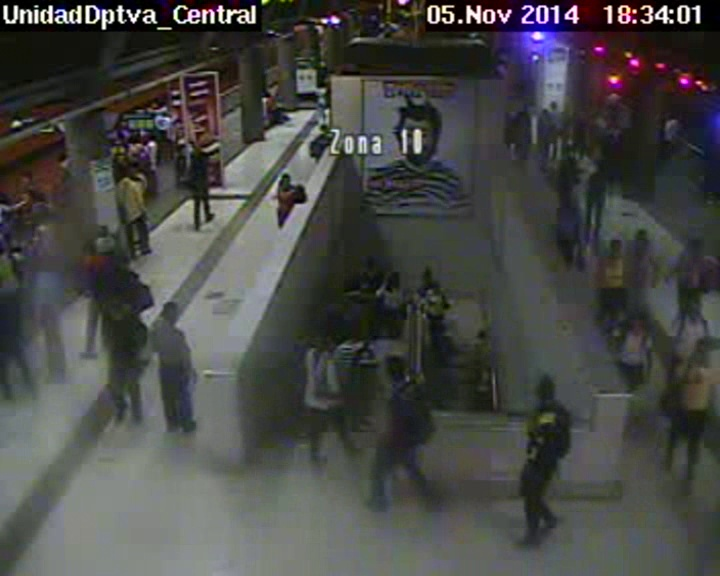person: (532, 375, 557, 403), (383, 354, 409, 380), (689, 337, 713, 360), (627, 308, 647, 330), (161, 302, 180, 324), (684, 294, 703, 315), (607, 237, 626, 257), (631, 229, 650, 249), (687, 233, 705, 253), (37, 228, 56, 245), (313, 334, 329, 352), (110, 295, 126, 312), (385, 272, 401, 289), (420, 265, 435, 281), (343, 327, 358, 343), (74, 247, 89, 263), (17, 170, 31, 186), (96, 225, 110, 239), (559, 146, 572, 159), (126, 166, 138, 180), (318, 124, 331, 136), (429, 277, 441, 290), (191, 142, 203, 154), (280, 172, 292, 183), (365, 256, 377, 267), (562, 196, 573, 207), (594, 162, 604, 173), (511, 104, 520, 113), (270, 81, 279, 90), (129, 136, 139, 144), (549, 101, 559, 109), (149, 101, 159, 109), (114, 140, 122, 149), (562, 105, 570, 114), (610, 122, 619, 130), (577, 104, 585, 111), (148, 136, 154, 143)
